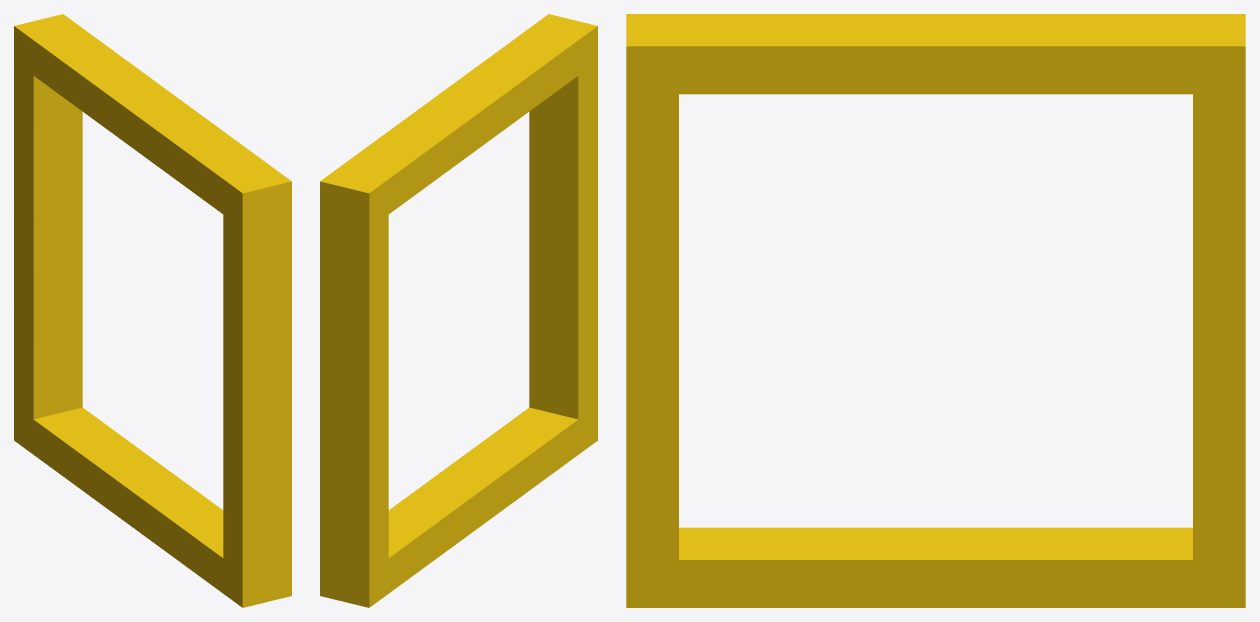
Rendered from goldBorder.fbx.
3 renders of one model, left to right at view 1: azimuth 30°, elevation 25°; view 2: azimuth 150°, elevation 25°; view 3: azimuth 270°, elevation 25°, orthographic. The views are drawn at different scales.
Visible parts, largest first — view 1: Cube; view 2: Cube; view 3: Cube.
Boxes of the visible parts, x1,y1,x2,y2 form: Cube: [14, 14, 291, 607]; Cube: [320, 14, 597, 607]; Cube: [626, 14, 1245, 607].
Size of the model in its own units: 200 by 1612 by 1612.
